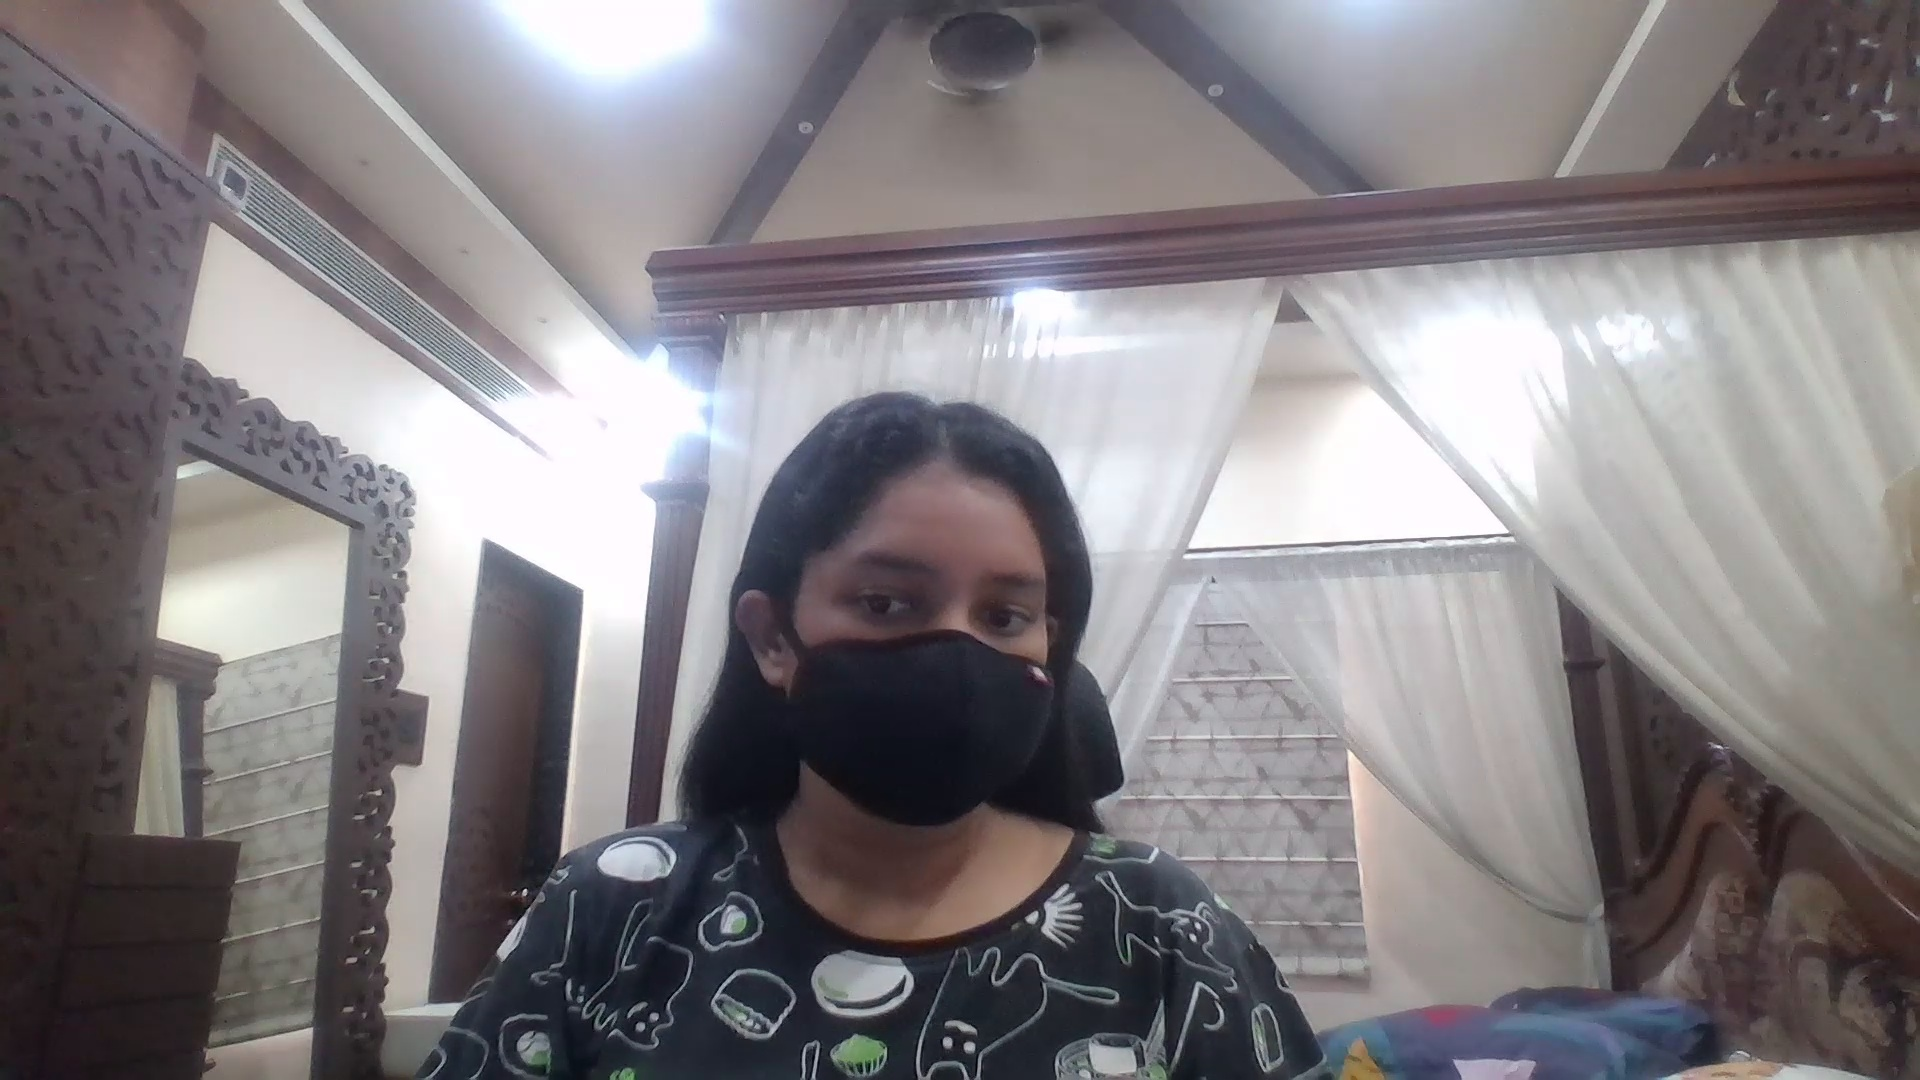Mask: (789, 634, 1059, 839)
